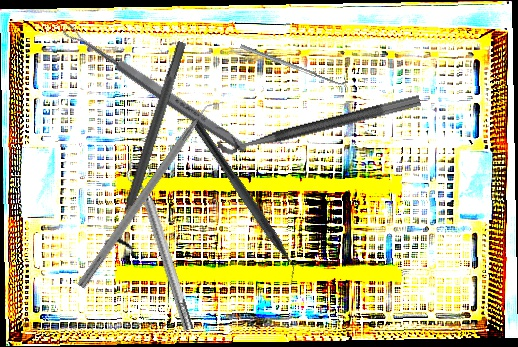Chopper: (77, 93, 228, 296), (178, 116, 310, 291)
Fixation Ring: (102, 37, 199, 257), (213, 77, 422, 158), (124, 163, 202, 335)
Spatula Surgical: (239, 40, 349, 89)
Surgical Spoon: (61, 22, 249, 155)
